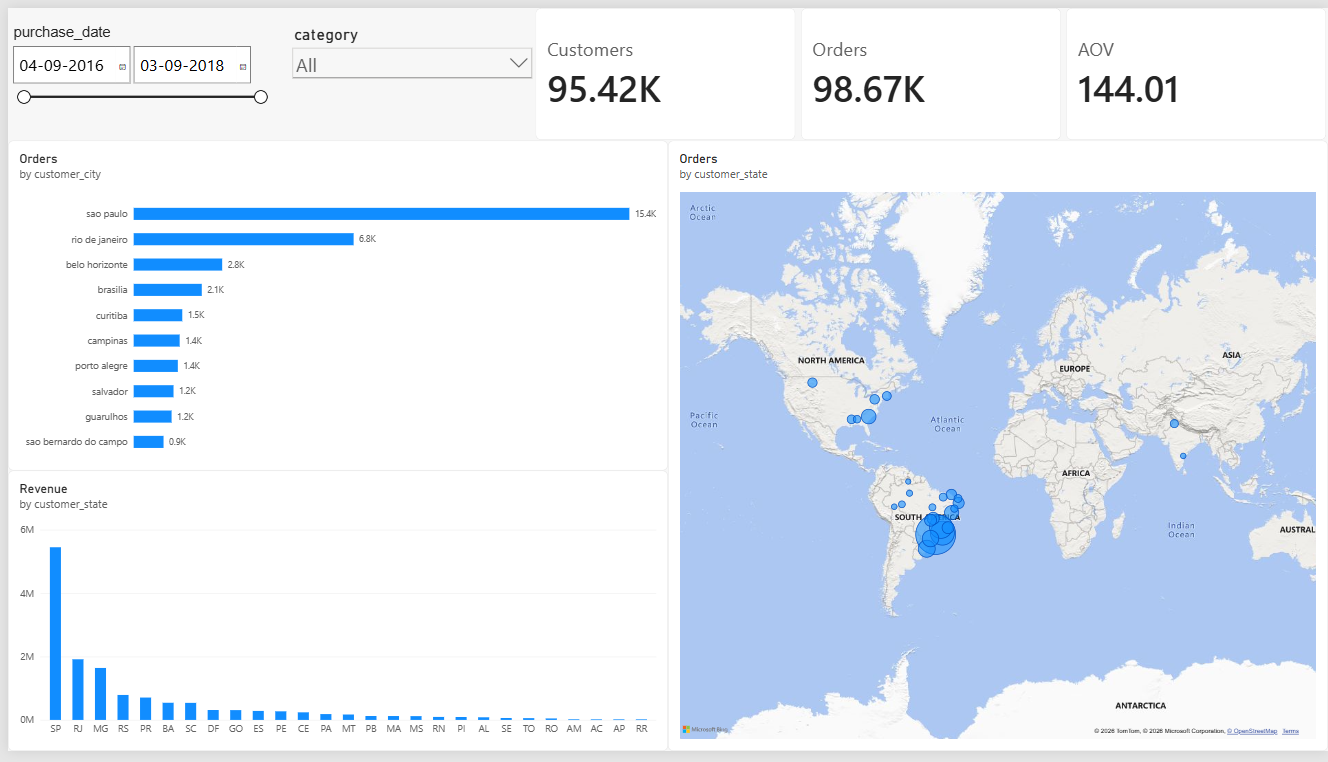

The dashboard page shown, as its layout file describes it:
{"tool":"powerbi","page":{"name":"Customers & Geography","canvas":[1920,1080],"ordinal":2},"visuals":[{"type":"map","fields":{"Category":["public bi_fact_sales.customer_state"],"Size":["DimDate.Orders"]},"box":[960,192,960,888],"z":0},{"type":"barChart","fields":{"Category":["public bi_fact_sales.customer_city"],"Y":["DimDate.Orders"]},"box":[0,192,960,480],"z":1000},{"type":"columnChart","fields":{"Category":["public bi_fact_sales.customer_state"],"Y":["DimDate.Revenue"]},"box":[0,672,960,408],"z":2000},{"type":"slicer","fields":{"Values":["public bi_fact_sales.purchase_date"]},"box":[0,24,384,168],"z":3000},{"type":"slicer","fields":{"Values":["public bi_fact_sales.category"]},"box":[408,24,360,168],"z":4000},{"type":"cardVisual","fields":{"Data":["DimDate.Customers","DimDate.Orders","DimDate.AOV"]},"box":[768,0,1152,192],"z":5000}]}

Visuals, with their boxes in screenshot pixels (x1, y1, x2, y2), scaled from the page's 1920x1080 canvas onto the 1328x762 screenshot:
map - public bi_fact_sales.customer_state x DimDate.Orders: 664:135:1327:761
barChart - public bi_fact_sales.customer_city x DimDate.Orders: 0:135:664:474
columnChart - public bi_fact_sales.customer_state x DimDate.Revenue: 0:474:664:761
slicer - public bi_fact_sales.purchase_date: 0:17:266:135
slicer - public bi_fact_sales.category: 282:17:531:135
cardVisual - DimDate.Customers x DimDate.Orders: 531:0:1327:135
